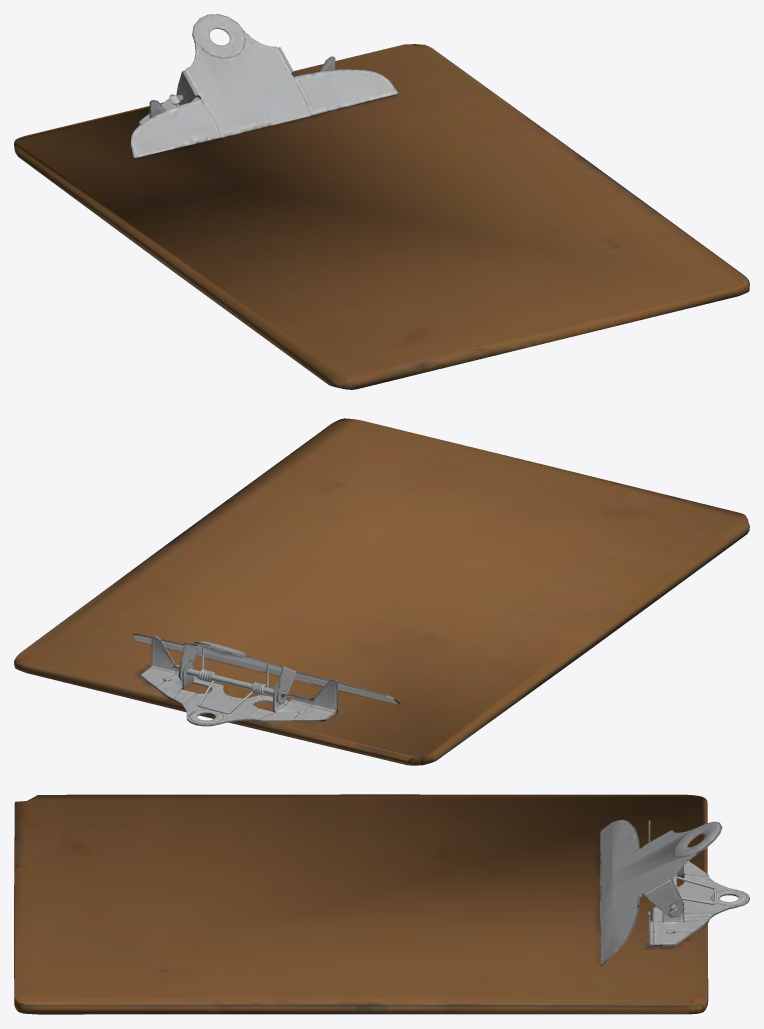
File: clipboard.glb
3 views of the same model, one above another, from view 1: azimuth 30°, elevation 25°; view 2: azimuth 150°, elevation 25°; view 3: azimuth 270°, elevation 25° (orthographic). The views are drawn at different scales.
Visible parts, largest first — view 1: clipboard; view 2: clipboard; view 3: clipboard.
Part boxes in pixels (left/top/right/bottom): clipboard: left=14, top=14, right=749, bottom=389; clipboard: left=14, top=418, right=749, bottom=765; clipboard: left=14, top=794, right=749, bottom=1014.
Size of the model in its own units: 0.2283 by 0.042 by 0.3365.
1 material, 1 textured.
